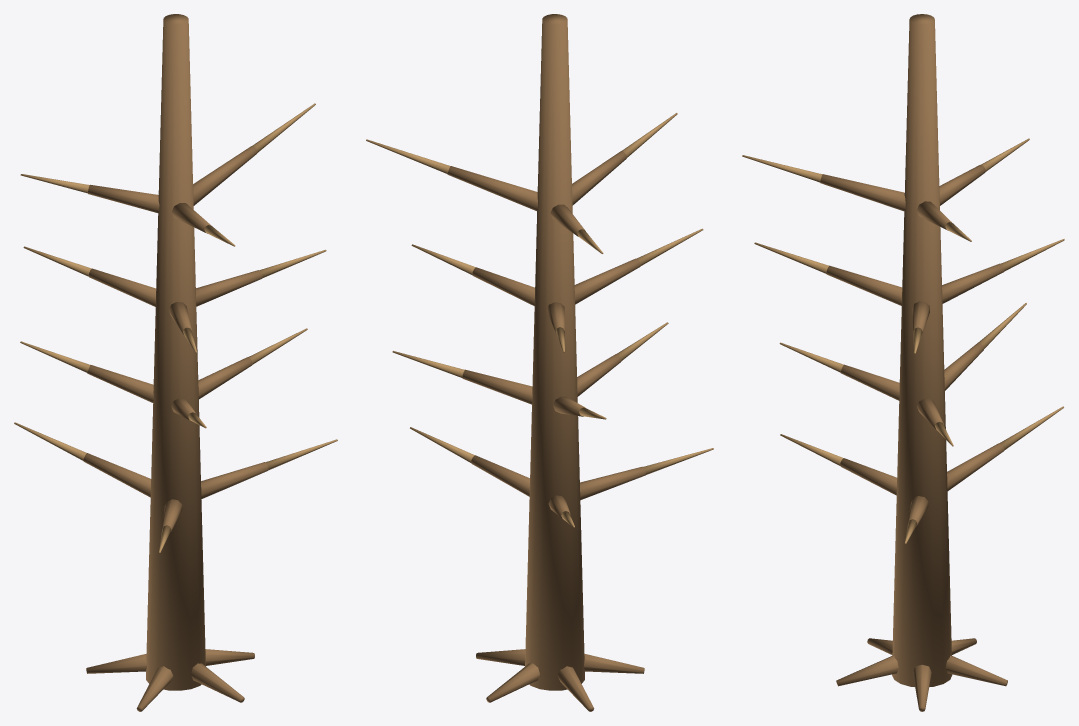
File: dry_tree_b.glb
3 views of the same model, side by side, from view 1: azimuth 30°, elevation 25°; view 2: azimuth 150°, elevation 25°; view 3: azimuth 270°, elevation 25° (orthographic).
Parts seen in each view (by area): view 1: dry_tree_b_trunk, dry_tree_b_branch_3_0_a, dry_tree_b_branch_3_1_a, dry_tree_b_branch_0_1_a, dry_tree_b_branch_2_1_a, dry_tree_b_branch_1_1_a, dry_tree_b_branch_0_0_a, dry_tree_b_branch_2_0_a, dry_tree_b_branch_1_0_a, root_4, root_2, root_3 (+2 smaller); view 2: dry_tree_b_trunk, dry_tree_b_branch_3_0_a, dry_tree_b_branch_1_0_a, dry_tree_b_branch_2_2_a, dry_tree_b_branch_3_2_a, dry_tree_b_branch_0_2_a, dry_tree_b_branch_2_0_a, dry_tree_b_branch_0_0_a, root_1, root_3, dry_tree_b_branch_1_2_a, root_2 (+1 smaller); view 3: dry_tree_b_trunk, dry_tree_b_branch_3_2_a, dry_tree_b_branch_2_2_a, dry_tree_b_branch_2_1_a, dry_tree_b_branch_0_1_a, dry_tree_b_branch_1_2_a, dry_tree_b_branch_0_2_a, root_4, root_1, dry_tree_b_branch_3_1_a, dry_tree_b_branch_1_1_a, root_0 (+1 smaller).
Part boxes in pixels (bbox=[...]): dry_tree_b_trunk: bbox=[146, 14, 205, 690]; dry_tree_b_branch_3_0_a: bbox=[193, 146, 257, 205]; dry_tree_b_branch_3_1_a: bbox=[88, 184, 159, 212]; dry_tree_b_branch_0_1_a: bbox=[83, 453, 150, 497]; dry_tree_b_branch_2_1_a: bbox=[88, 268, 156, 306]; dry_tree_b_branch_1_1_a: bbox=[87, 364, 153, 402]; dry_tree_b_branch_0_0_a: bbox=[201, 462, 268, 499]; dry_tree_b_branch_2_0_a: bbox=[196, 270, 262, 306]; dry_tree_b_branch_1_0_a: bbox=[198, 357, 252, 399]; root_4: bbox=[191, 663, 244, 702]; root_2: bbox=[86, 653, 146, 673]; root_3: bbox=[136, 666, 173, 711]; dry_tree_b_trunk: bbox=[525, 14, 584, 690]; dry_tree_b_branch_3_0_a: bbox=[447, 166, 537, 210]; dry_tree_b_branch_1_0_a: bbox=[462, 369, 532, 404]; dry_tree_b_branch_2_2_a: bbox=[574, 258, 640, 304]; dry_tree_b_branch_3_2_a: bbox=[572, 151, 626, 205]; dry_tree_b_branch_0_2_a: bbox=[580, 466, 645, 500]; dry_tree_b_branch_2_0_a: bbox=[472, 267, 534, 305]; dry_tree_b_branch_0_0_a: bbox=[471, 455, 529, 496]; root_1: bbox=[486, 663, 539, 702]; root_3: bbox=[584, 653, 644, 673]; dry_tree_b_branch_1_2_a: bbox=[577, 354, 621, 396]; root_2: bbox=[557, 666, 594, 711]; dry_tree_b_trunk: bbox=[892, 14, 952, 686]; dry_tree_b_branch_3_2_a: bbox=[820, 174, 905, 211]; dry_tree_b_branch_2_2_a: bbox=[826, 265, 902, 305]; dry_tree_b_branch_2_1_a: bbox=[942, 263, 1004, 303]; dry_tree_b_branch_0_1_a: bbox=[947, 443, 1004, 490]; dry_tree_b_branch_1_2_a: bbox=[840, 364, 899, 400]; dry_tree_b_branch_0_2_a: bbox=[840, 458, 897, 495]; root_4: bbox=[836, 655, 898, 686]; root_1: bbox=[945, 655, 1007, 686]; dry_tree_b_branch_3_1_a: bbox=[939, 165, 985, 205]; dry_tree_b_branch_1_1_a: bbox=[944, 343, 983, 390]; root_0: bbox=[912, 664, 931, 711].
Bounding box in the file's own units: 2.2 × 5.16 × 2.3.
